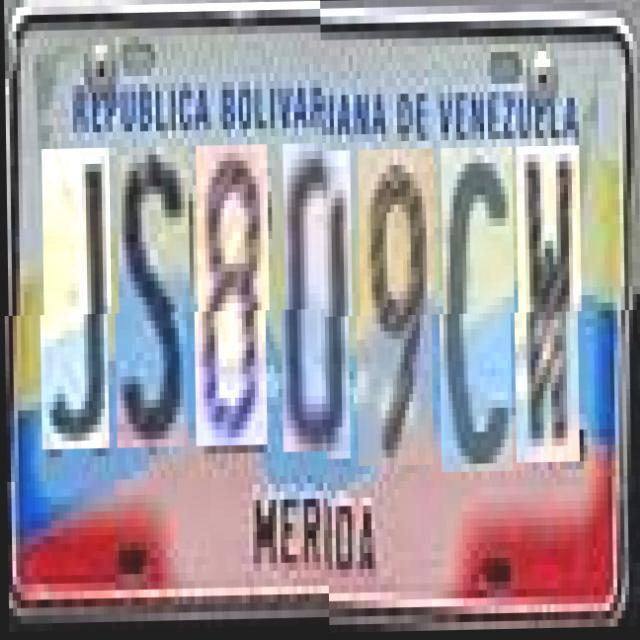0: (282, 152, 353, 461)
8: (196, 153, 270, 454)
9: (357, 150, 436, 468)
C: (440, 149, 515, 474)
J: (42, 156, 112, 457)
S: (116, 155, 190, 456)
W: (515, 148, 582, 465)
